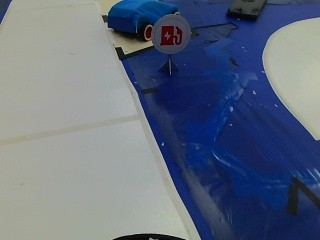battery: (155, 21, 188, 50)
